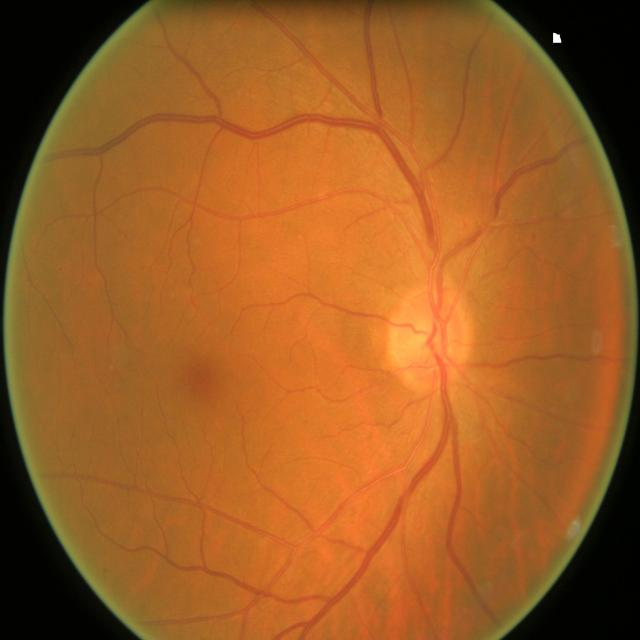OC: (410, 318, 442, 356)
OD: (388, 288, 472, 388)
